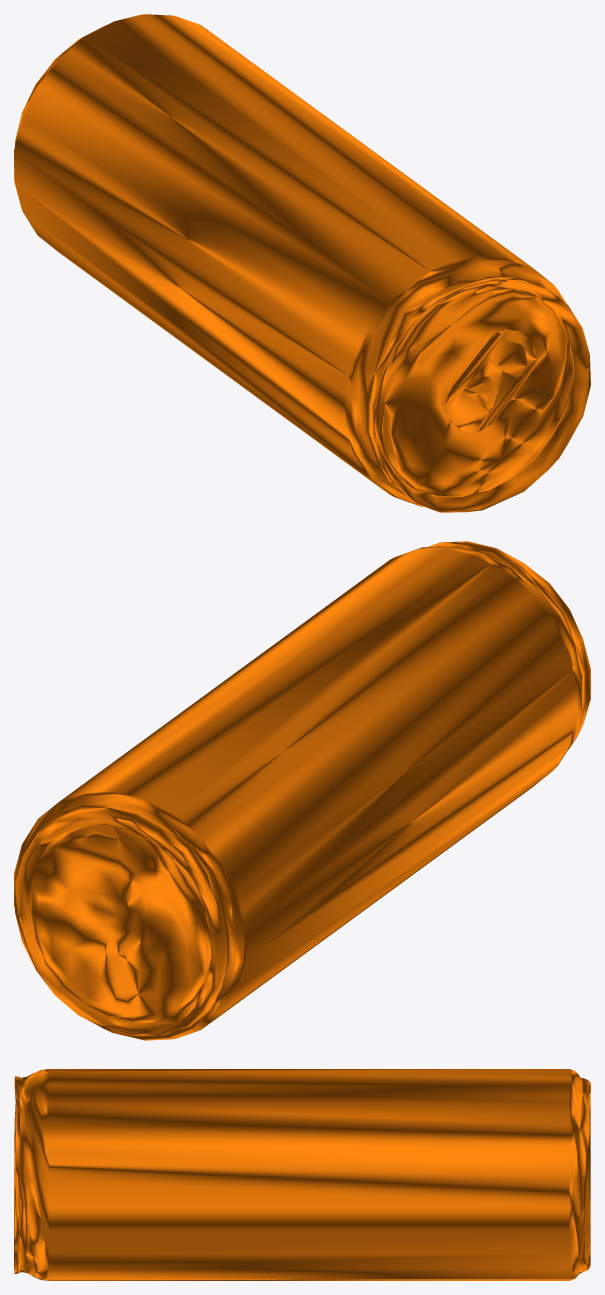
The model's file is model_align.obj.
The picture shows the model from 3 angles, top to bottom: view 1: azimuth 30°, elevation 25°; view 2: azimuth 150°, elevation 25°; view 3: azimuth 270°, elevation 25°; orthographic projection. The views are drawn at different scales.
Bounding box in the file's own units: 0.0583 × 0.0583 × 0.1601.
